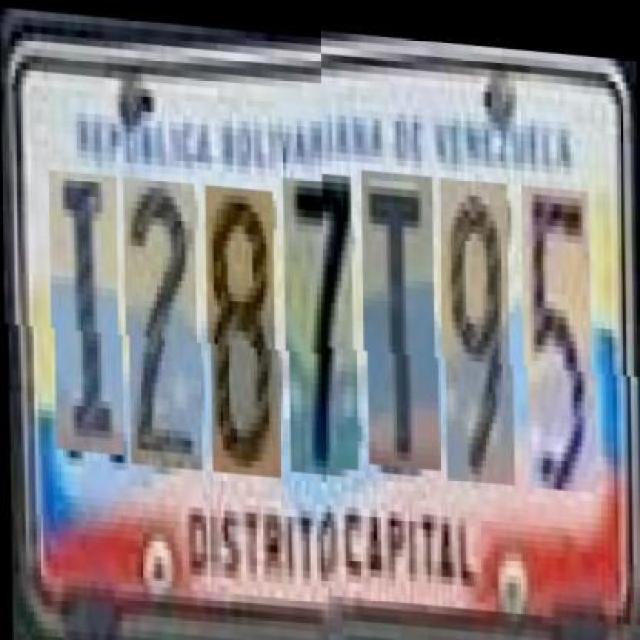2: (127, 176, 201, 467)
5: (524, 182, 596, 488)
7: (286, 172, 357, 472)
8: (208, 180, 280, 472)
9: (442, 176, 513, 482)
i: (51, 169, 122, 454)
t: (364, 170, 438, 470)
